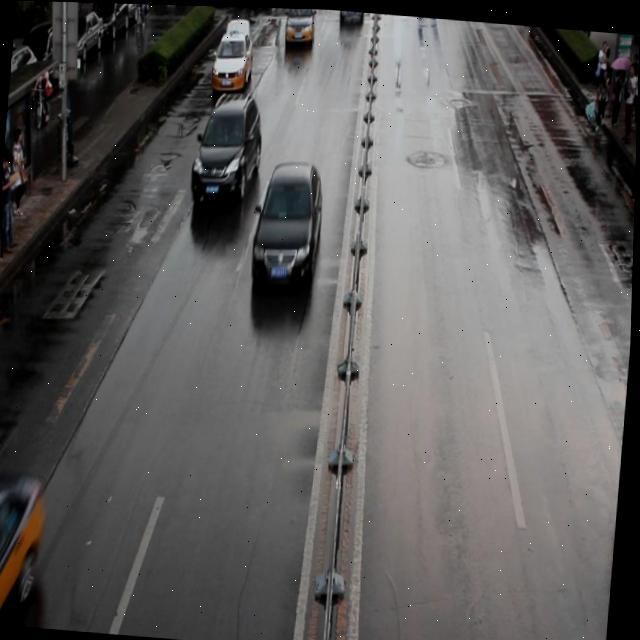car: (249, 154, 328, 292), (188, 88, 265, 206), (0, 467, 51, 627), (211, 27, 256, 89), (283, 7, 316, 44), (338, 8, 364, 26)
